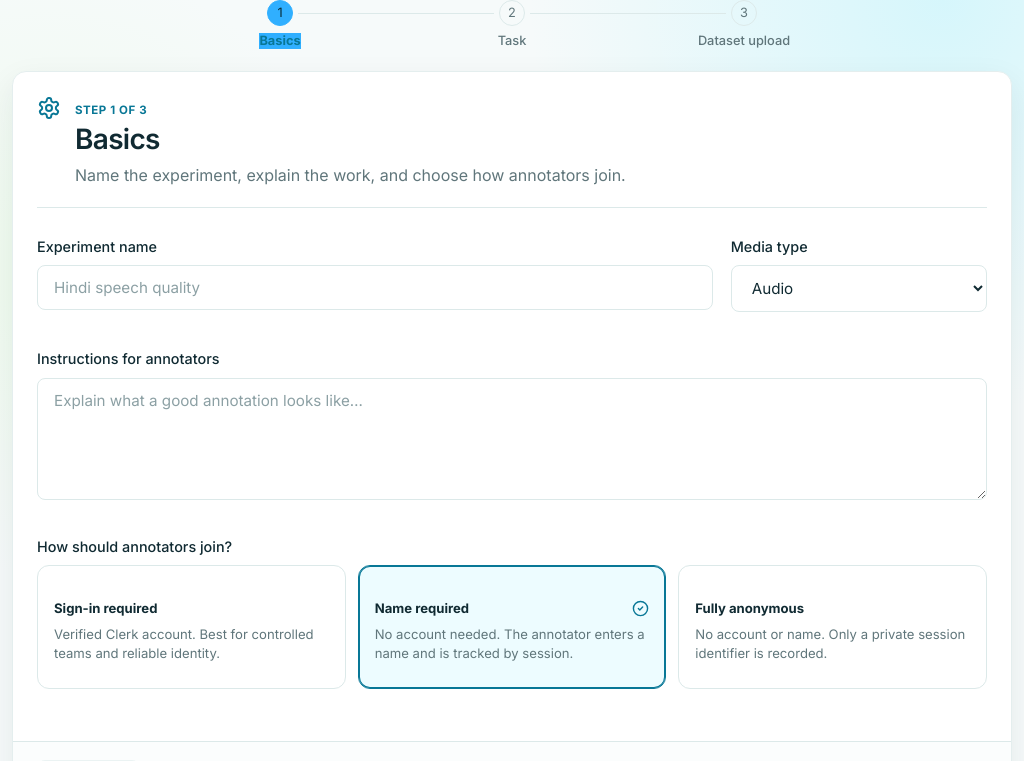
Test: CreateExperiment - 3-Step Wizard Flow › exposes the selected task type to assistive technology
Type "Speech review" into the field labelled "Experiment name" at coordinates (375, 288), box x1=37 y1=265 x2=713 y2=310
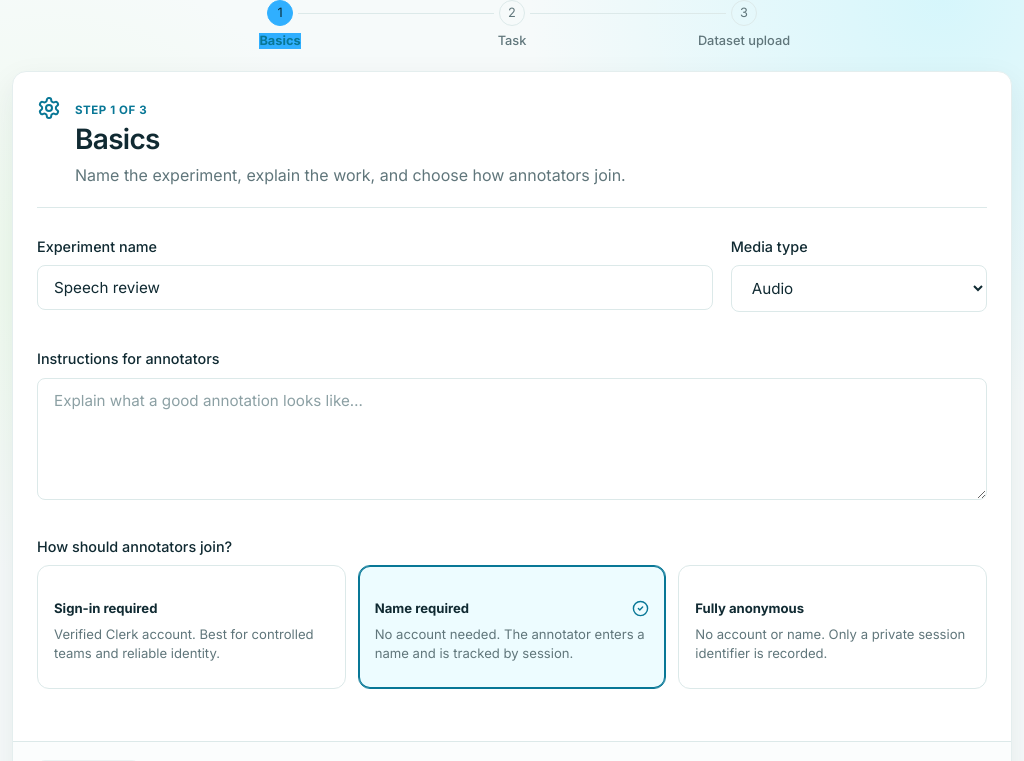
Type "Choose the clearest sample." into the text box labelled "Instructions for annotators" at coordinates (512, 439), box x1=37 y1=378 x2=987 y2=500
(page scrolled)
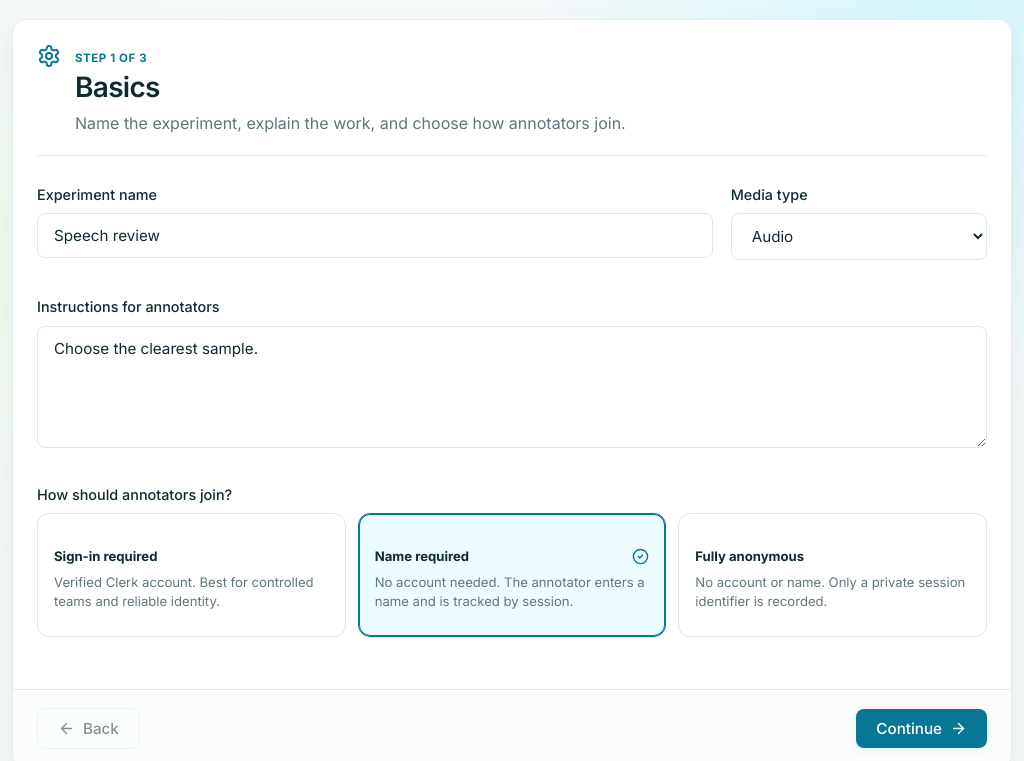
Click the button "Continue" at coordinates (922, 729), box x1=856 y1=709 x2=987 y2=748
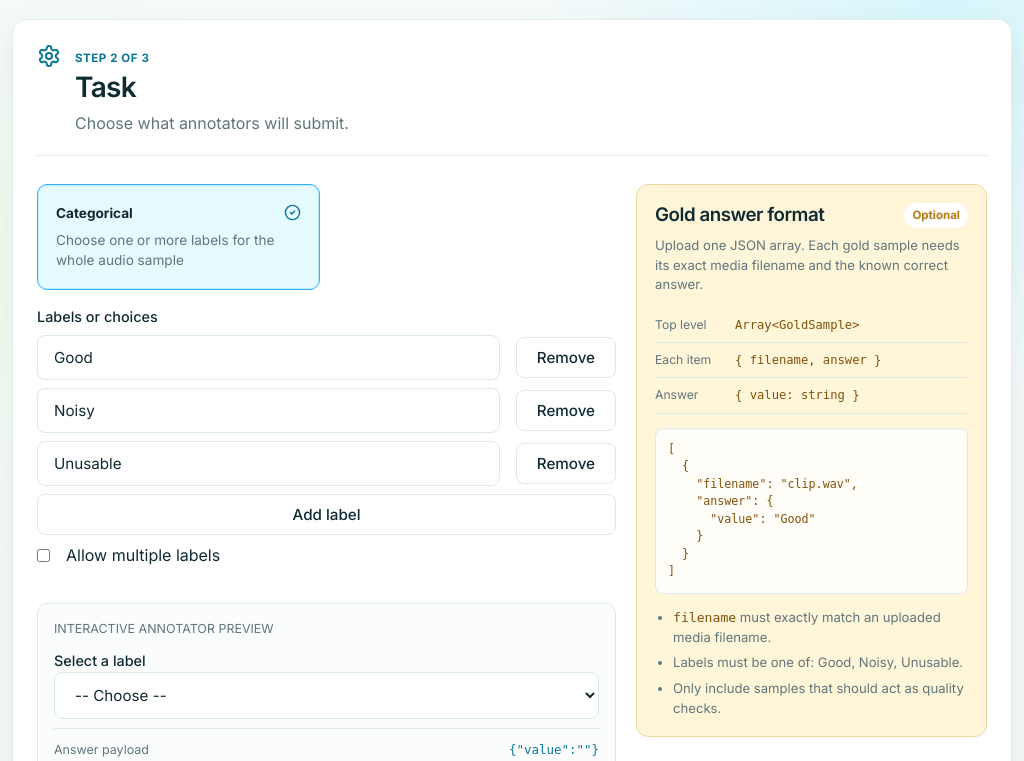
Expected: the element named "Optional gold answer format" is shown, x1=636 y1=184 x2=987 y2=737
